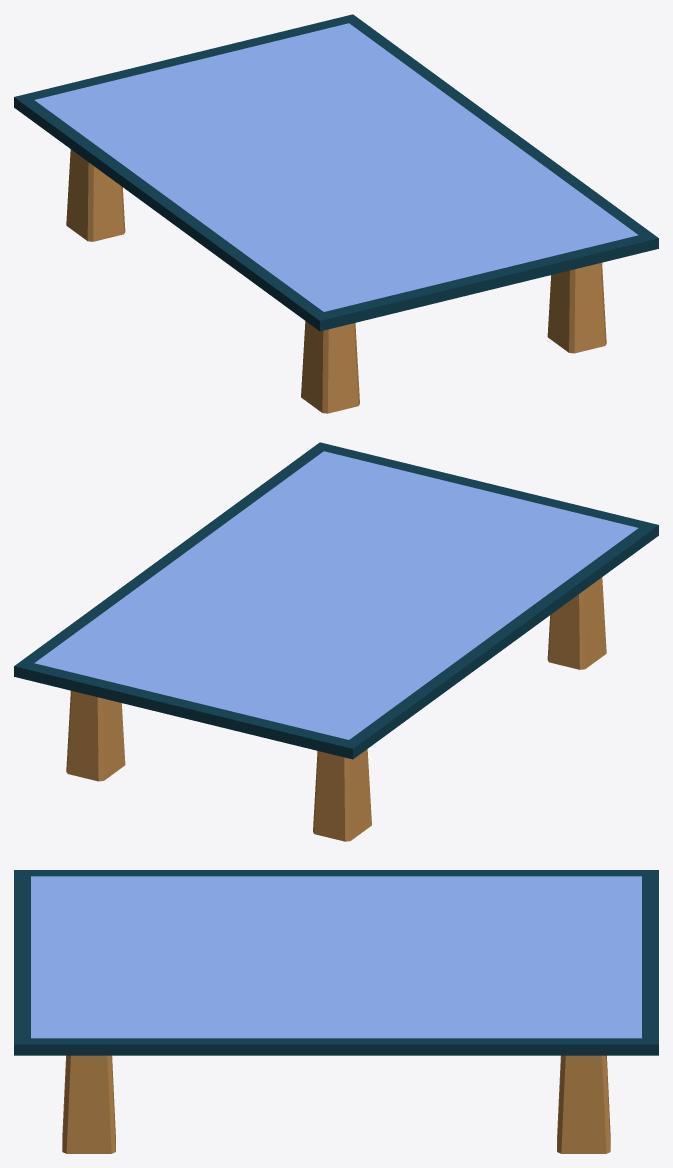
File: Table2.fbx
3 views of the same model, one above another, from view 1: azimuth 30°, elevation 25°; view 2: azimuth 150°, elevation 25°; view 3: azimuth 270°, elevation 25° (orthographic). The views are drawn at different scales.
Visible parts, largest first — view 1: Table; view 2: Table; view 3: Table.
Boxes of the visible parts, x1,y1,x2,y2 form: Table: [14, 14, 658, 413]; Table: [14, 442, 658, 841]; Table: [14, 870, 658, 1153].
Bounding box in the file's own units: 96.22 × 31.74 × 150.
